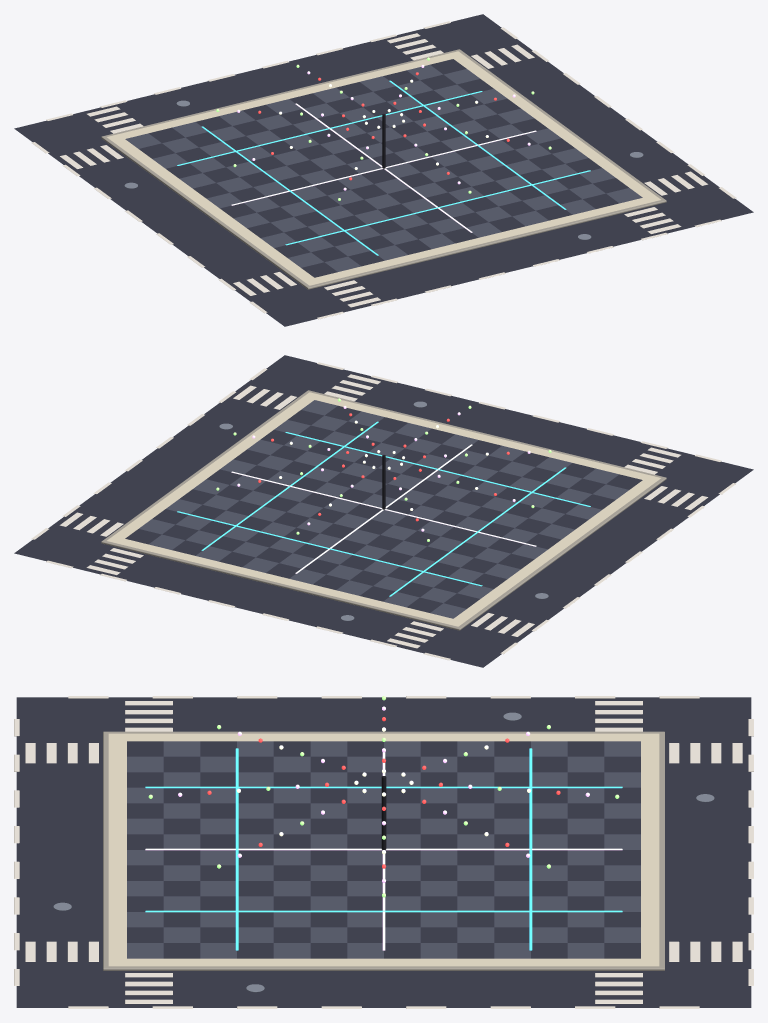
File: tile_neon.glb
3 views of the same model, one above another, from view 1: azimuth 30°, elevation 25°; view 2: azimuth 150°, elevation 25°; view 3: azimuth 270°, elevation 25° (orthographic). The views are drawn at different scales.
Parts seen in each view (by area): view 1: tile_neon; view 2: tile_neon; view 3: tile_neon.
Boxes of the visible parts, box(x1,y1,x2,y2) form: tile_neon: box(14, 14, 753, 326); tile_neon: box(14, 355, 753, 667); tile_neon: box(14, 696, 753, 1008).
Bounding box in the file's own units: 40.3 × 4.57 × 40.3.
1 material, 1 textured.
